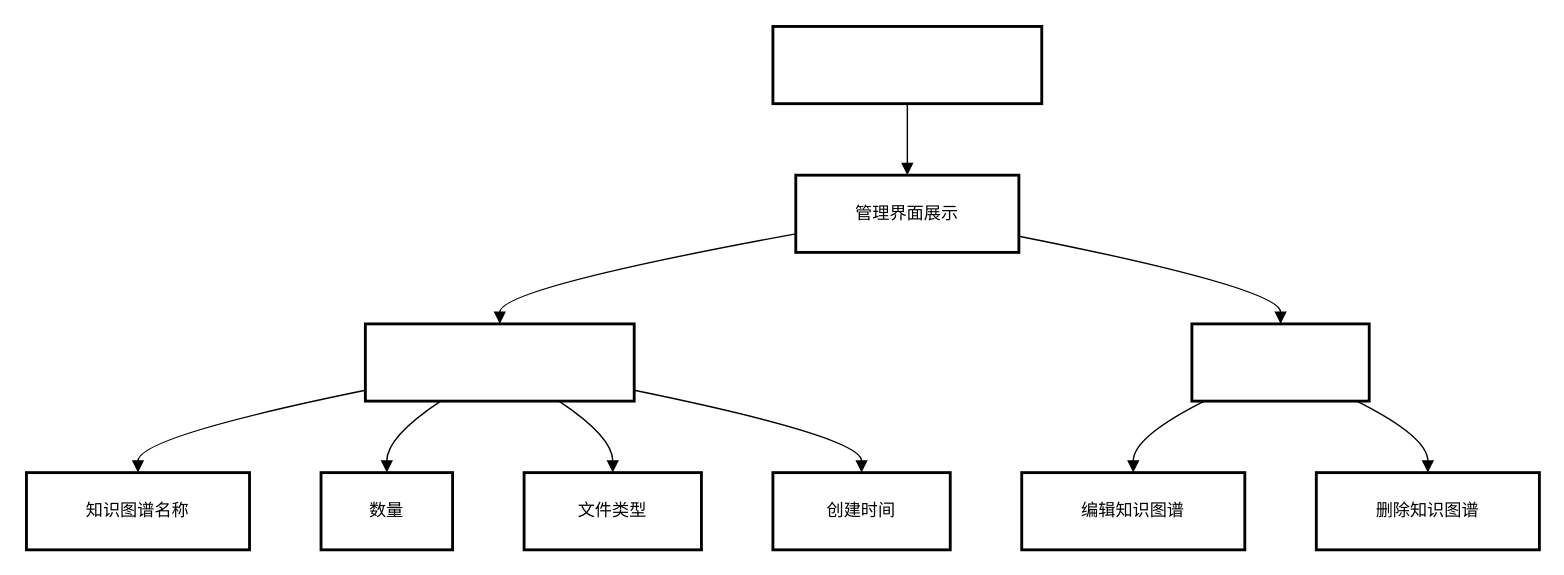
This 1564x575 diagram has some shape labels left out. Here are the shapes that lost their labels. From the top down, the centre of each, then its label:
At point (906, 64): "知识图谱构建完成".
At point (499, 362): "知识图谱信息列表".
At point (1280, 362): "基本功能".
